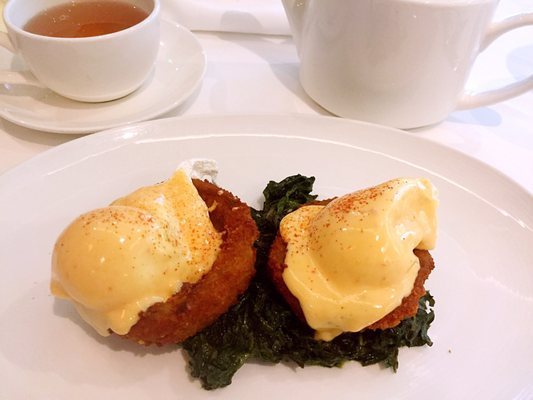pizza: (2, 0, 162, 104)
soup: (182, 176, 439, 381)
